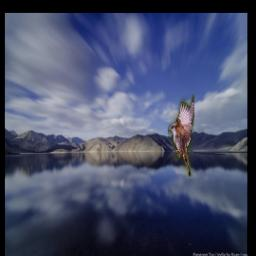Sparrow: (168, 94, 194, 177)
